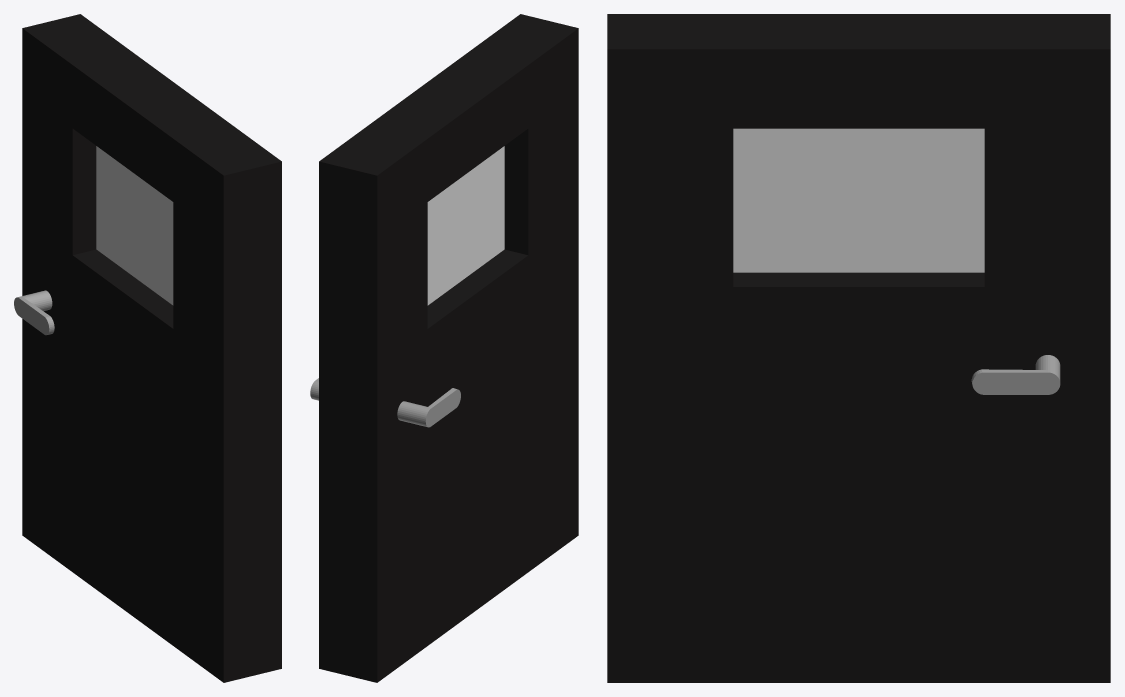
The model's file is DoorWindowCenterBlack.fbx.
The picture shows the model from 3 angles, left to right: view 1: azimuth 30°, elevation 25°; view 2: azimuth 150°, elevation 25°; view 3: azimuth 270°, elevation 25°; orthographic projection. The views are drawn at different scales.
Visible parts, largest first — view 1: DoorWindowCenterBlack, Window, Cylinder.001; view 2: DoorWindowCenterBlack, Window, Cylinder.001; view 3: DoorWindowCenterBlack, Window, Cylinder.
Part boxes in pixels (x1,y1,x2,y2): DoorWindowCenterBlack: [22, 14, 281, 682]; Window: [96, 146, 173, 305]; Cylinder.001: [14, 290, 54, 335]; DoorWindowCenterBlack: [319, 14, 578, 682]; Window: [427, 146, 504, 305]; Cylinder.001: [397, 388, 460, 427]; DoorWindowCenterBlack: [607, 14, 1110, 682]; Window: [733, 128, 984, 272]; Cylinder: [971, 355, 1060, 394].
Bounding box in the file's own units: 119 × 500 × 360.
